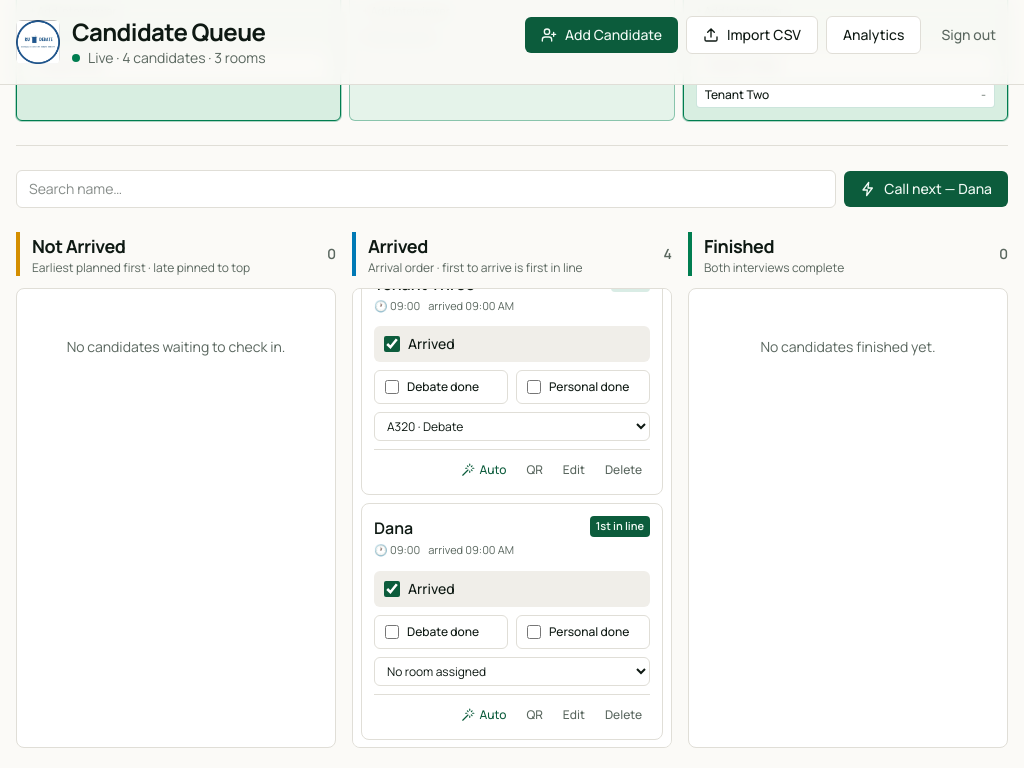
Auto-Assign — the load-balancing decision, end to end › sends the candidate to the empty room, not the busy ones
(page scrolled)
Step 1. Click the button with aria-label "Auto-assign" → (484, 714), box [454,702,514,726]
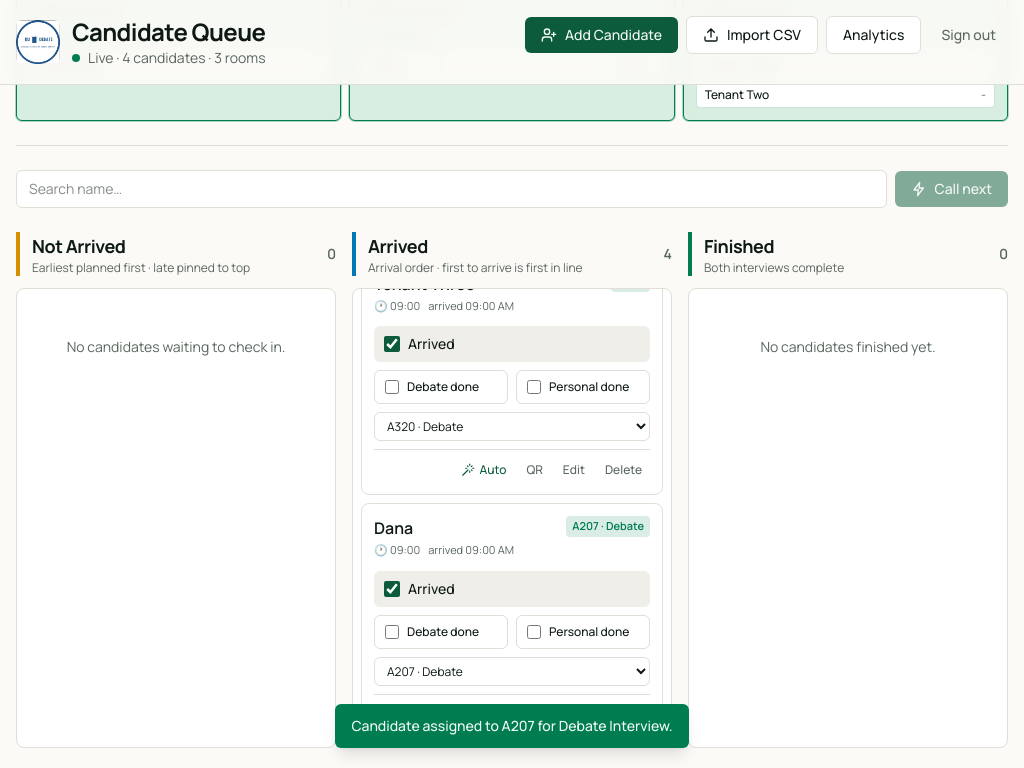
Now the button "Candidate assigned to A207 for Debate Interview." is shown, box [335,704,689,748]
